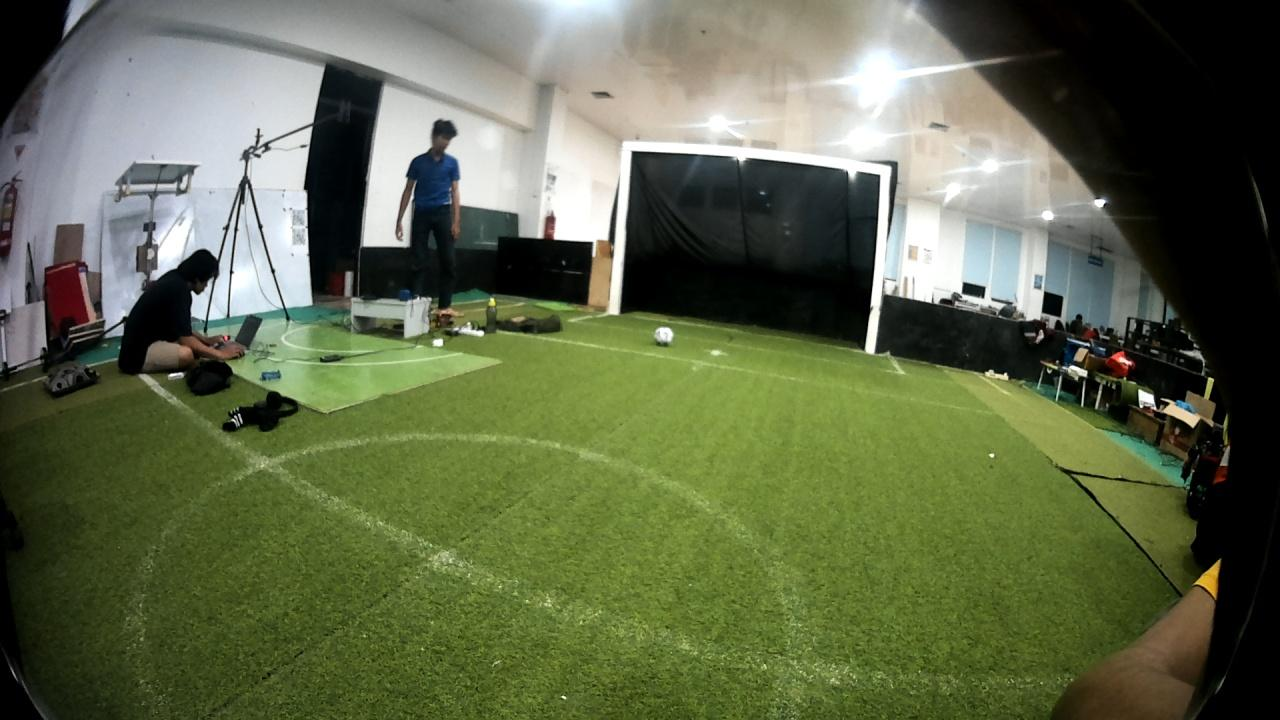ball: (654, 325, 673, 346)
